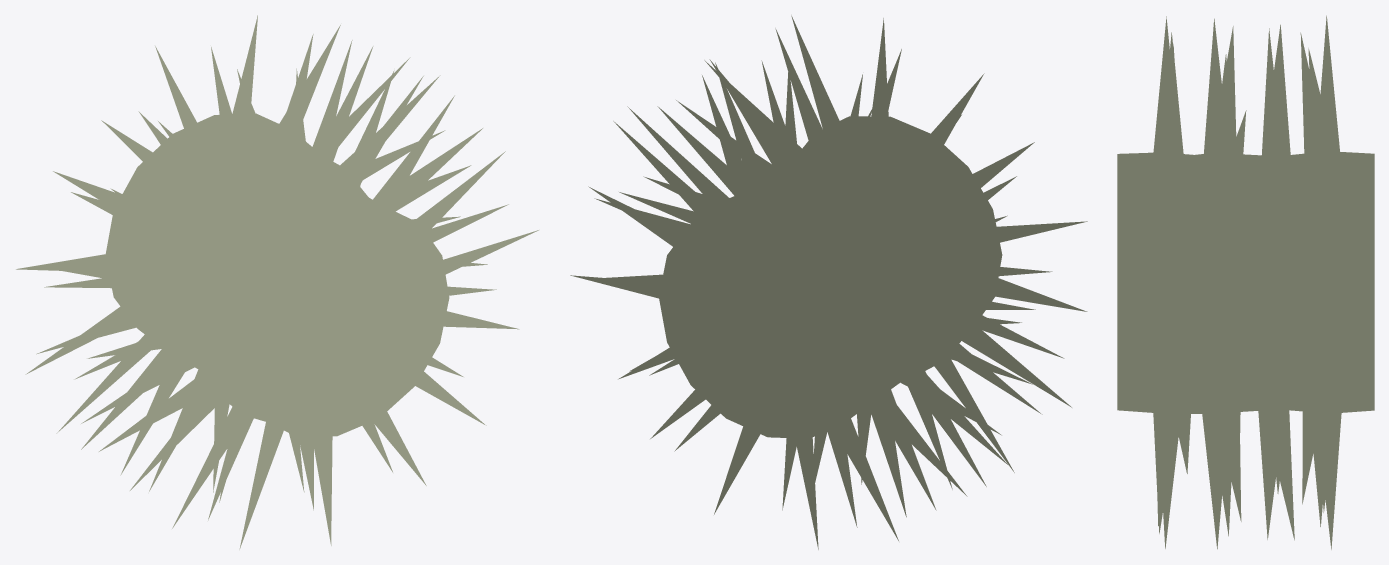
File: spikewheel_random.dae
3 views of the same model, side by side, from view 1: azimuth 30°, elevation 25°; view 2: azimuth 150°, elevation 25°; view 3: azimuth 270°, elevation 25° (orthographic). The views are drawn at different scales.
Visible parts, largest first — view 1: cylinder1-0; view 2: cylinder1-0; view 3: cylinder1-0.
Boxes of the visible parts, x1,y1,x2,y2 form: cylinder1-0: (16,15,538,549); cylinder1-0: (570,15,1087,549); cylinder1-0: (1117,15,1374,549).
Bounding box in the file's own units: 208 × 211 × 100.
